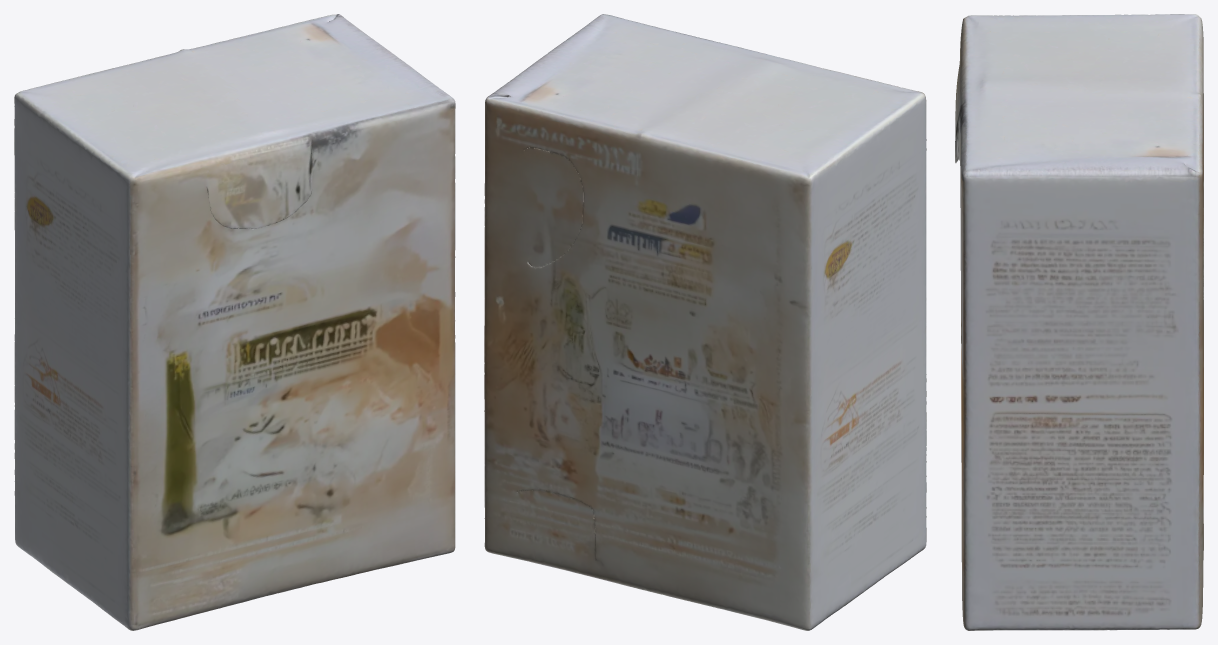
File: Perricone_MD_Vitamin_C_Ester_Serum.glb
3 renders of one model, left to right at view 1: azimuth 30°, elevation 25°; view 2: azimuth 150°, elevation 25°; view 3: azimuth 270°, elevation 25°, orthographic.
Parts seen in each view (by area): view 1: geometry_0; view 2: geometry_0; view 3: geometry_0.
Part boxes in pixels (x1,y1,x2,y2): geometry_0: (14,14,455,630); geometry_0: (484,14,926,630); geometry_0: (955,14,1203,630).
Bounding box in the file's own units: 0.7474 × 1 × 0.4876.
1 material, 1 textured.
